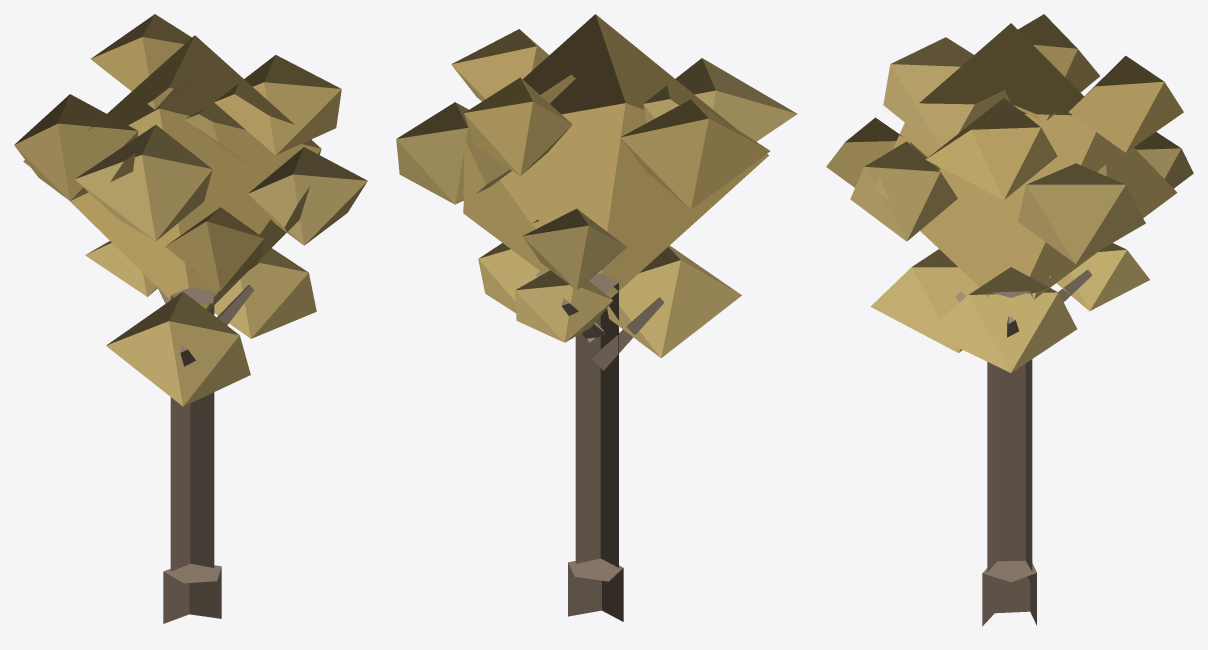
File: tree.temp.ginkgo__autumn.glb
The picture shows the model from 3 angles, left to right: view 1: azimuth 30°, elevation 25°; view 2: azimuth 150°, elevation 25°; view 3: azimuth 270°, elevation 25°; orthographic projection. The views are drawn at different scales.
Visible parts, largest first — view 1: tree.temp.ginkgo__autumn; view 2: tree.temp.ginkgo__autumn; view 3: tree.temp.ginkgo__autumn.
Part boxes in pixels (x1,y1,x2,y2): tree.temp.ginkgo__autumn: (14, 14, 367, 623); tree.temp.ginkgo__autumn: (396, 14, 797, 621); tree.temp.ginkgo__autumn: (826, 14, 1193, 626).
Bounding box in the file's own units: 8.25 × 14.35 × 7.97.
